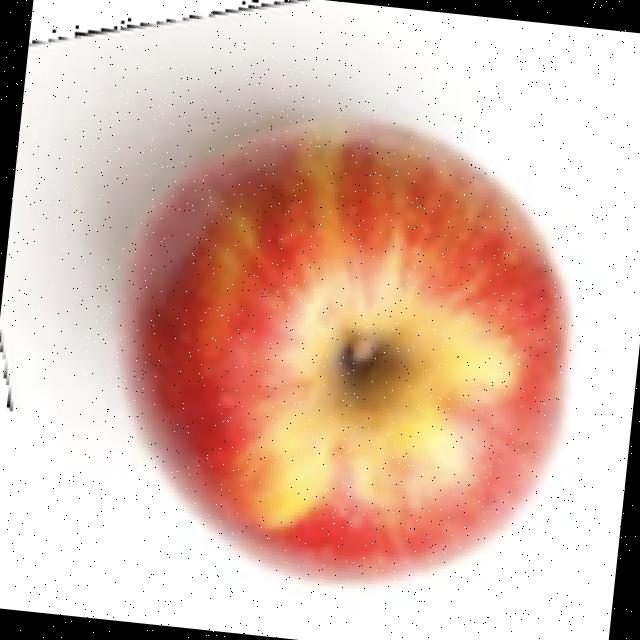apple: (75, 64, 579, 594)
